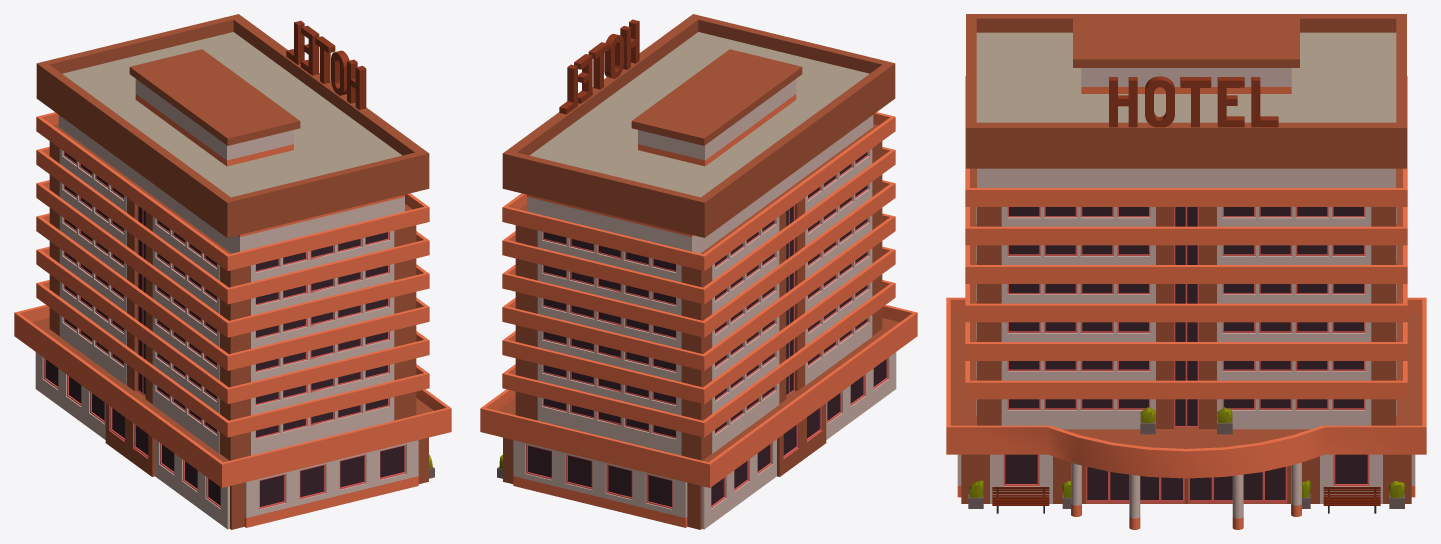
File: PublicBuilding_2.glb
3 views of the same model, side by side, from view 1: azimuth 30°, elevation 25°; view 2: azimuth 150°, elevation 25°; view 3: azimuth 270°, elevation 25° (orthographic). The views are drawn at different scales.
Parts seen in each view (by area): view 1: PublicBuilding_2; view 2: PublicBuilding_2; view 3: PublicBuilding_2.
Boxes of the visible parts, x1,y1,x2,y2 form: PublicBuilding_2: (14,14,451,529); PublicBuilding_2: (480,14,917,529); PublicBuilding_2: (946,14,1426,529).
Bounding box in the file's own units: 0.0751 × 0.0967 × 0.0992.
Materials: 1 (1 with a texture image).
